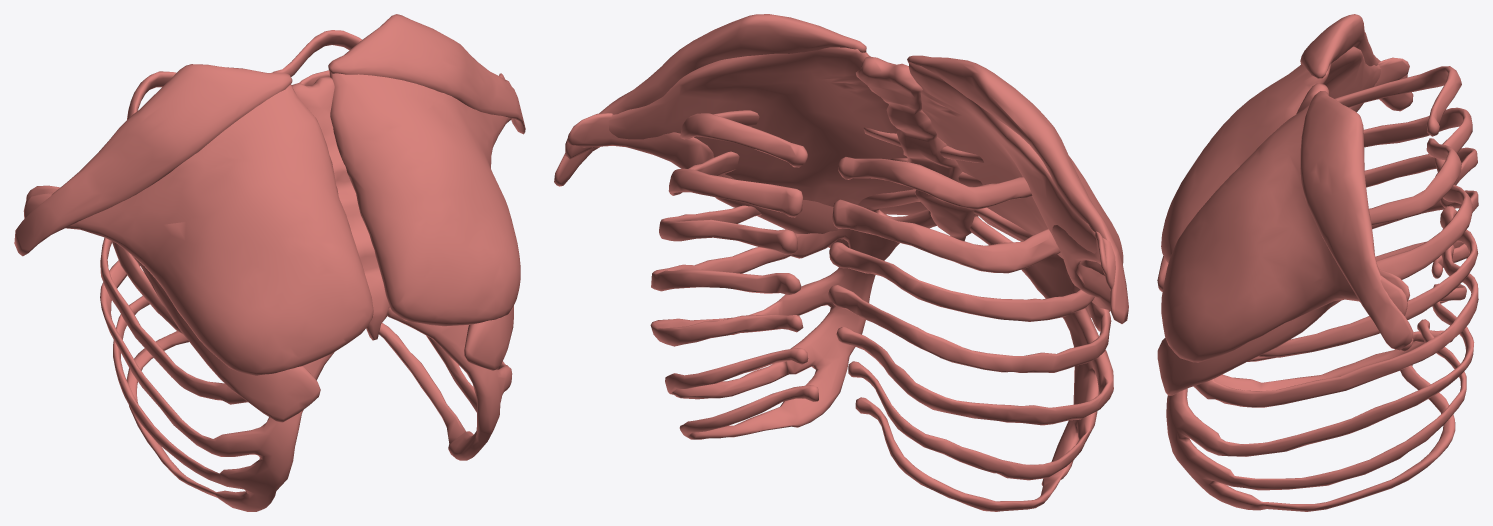
The model's file is chest.glb.
3 views of the same model, side by side, from view 1: azimuth 30°, elevation 25°; view 2: azimuth 150°, elevation 25°; view 3: azimuth 270°, elevation 25° (orthographic). The views are drawn at different scales.
Parts seen in each view (by area): view 1: chest__selectable; view 2: chest__selectable; view 3: chest__selectable.
Boxes of the visible parts, box(x1,y1,x2,y2) form: chest__selectable: box(14, 14, 525, 511); chest__selectable: box(554, 14, 1128, 511); chest__selectable: box(1157, 14, 1478, 511).
Bounding box in the file's own units: 3.84 × 2.94 × 2.17.
